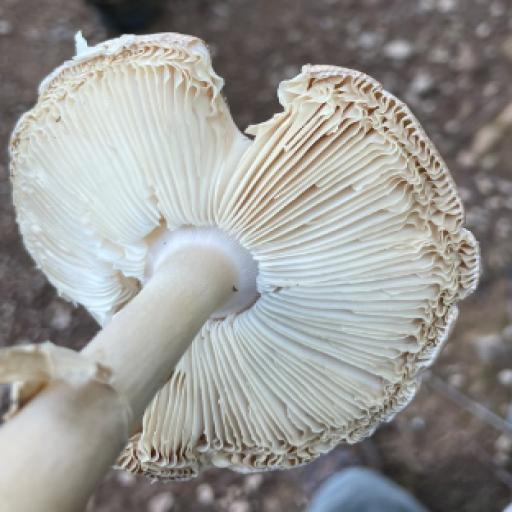Death Cap: (0, 31, 480, 512)
